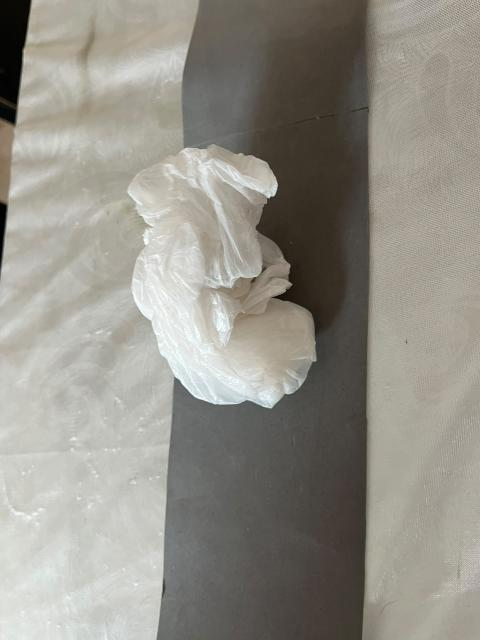LDPE: (91, 114, 368, 413)
